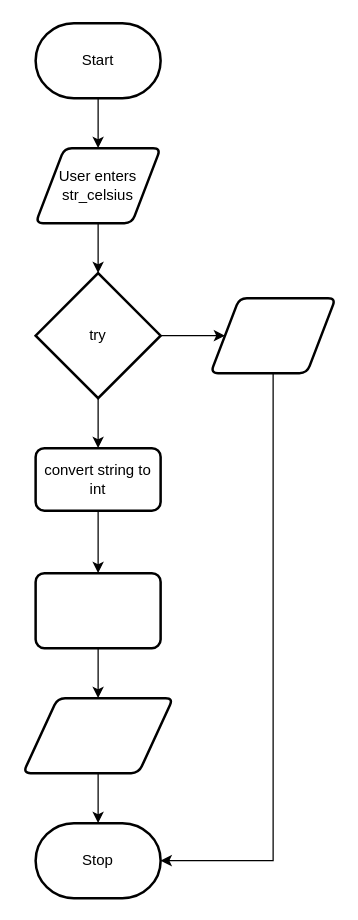
Image size: 358x920. Some labels were removed from this diagram. The centre of each missing label's shape, as x and y in pixels:
fahrenheit = (9 / 5) * int_celsius + 32: [97,610]
print("That is not a valid input."): [272,335]
print("{0}°C is equal to {1}°F.": [97,735]
